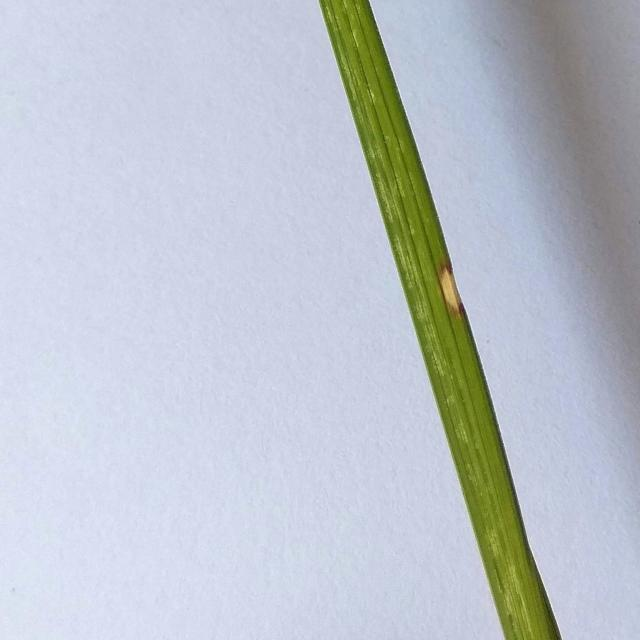Blast: (436, 266, 464, 321)
